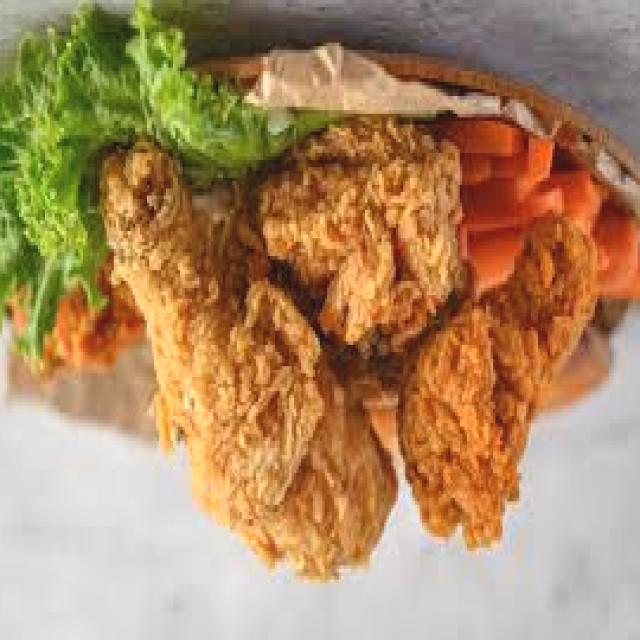ayam_goreng: (90, 120, 603, 573)
